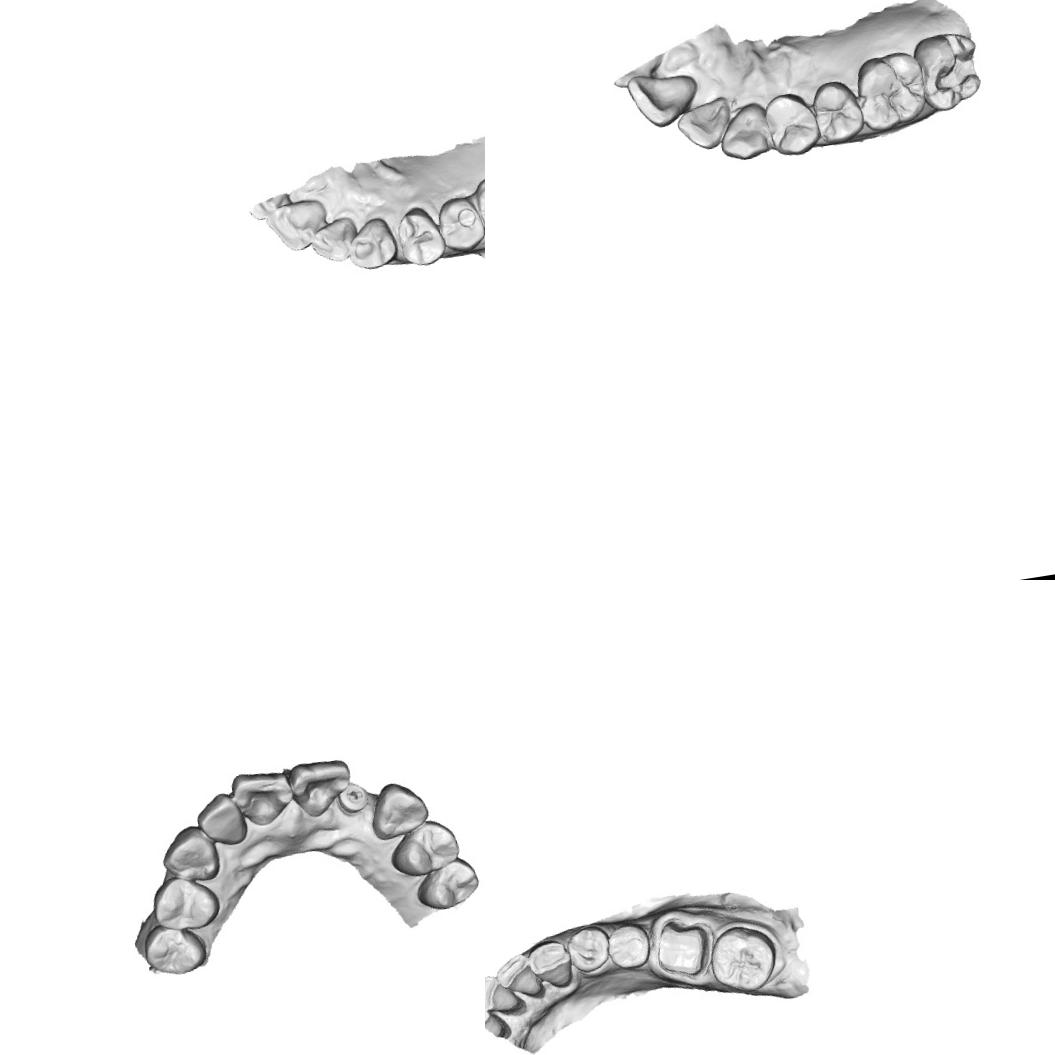canine: (365, 777, 432, 842), (157, 822, 222, 887), (714, 100, 774, 165), (342, 214, 401, 274), (524, 934, 577, 994)
crown: (649, 912, 718, 984)
implant_minus: (334, 780, 370, 818)
incisor: (623, 65, 705, 133), (286, 755, 356, 821), (262, 194, 334, 258), (230, 766, 296, 831), (671, 94, 736, 156), (192, 789, 250, 850), (305, 213, 360, 268), (492, 950, 545, 1003), (485, 969, 522, 1019)
inlay: (926, 28, 985, 106)
molar: (850, 48, 934, 136), (704, 918, 784, 1000), (469, 166, 485, 243)
premolar: (384, 815, 463, 881), (148, 870, 224, 935), (761, 87, 824, 162), (140, 918, 210, 980), (411, 855, 483, 914), (808, 76, 866, 149), (392, 202, 449, 271), (434, 191, 485, 257), (604, 918, 655, 974), (564, 920, 613, 977)
